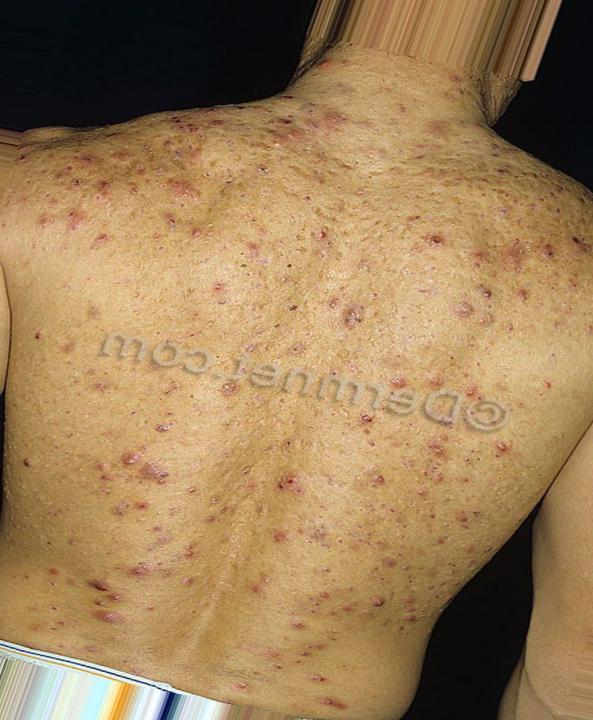Acne: (42, 134, 280, 244)
